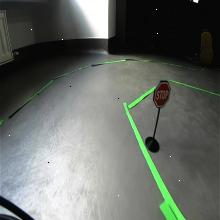stop: (153, 80, 171, 108)
